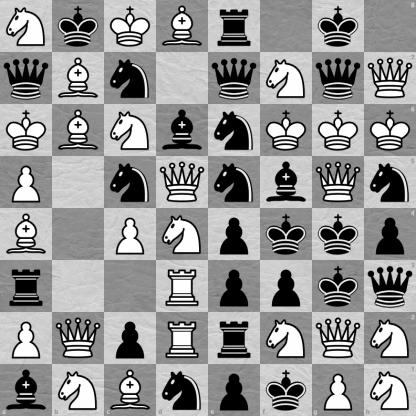B: (104, 364, 156, 416), (1, 209, 52, 260), (53, 53, 104, 104), (53, 105, 104, 156), (157, 1, 208, 52)
K: (364, 104, 416, 156), (1, 105, 52, 156), (105, 1, 156, 52), (261, 105, 312, 156), (313, 105, 364, 156)
N: (52, 364, 104, 416), (364, 312, 416, 364), (364, 364, 416, 416), (1, 1, 52, 52), (105, 105, 156, 156), (157, 209, 208, 260), (261, 53, 312, 104), (261, 313, 312, 364)
P: (312, 364, 364, 416), (1, 157, 52, 208), (1, 313, 52, 364), (105, 209, 156, 260)
Q: (364, 52, 416, 104), (53, 313, 104, 364), (157, 157, 208, 208), (313, 157, 364, 208), (313, 313, 364, 364)
R: (157, 261, 208, 312), (157, 313, 208, 364)
b: (0, 364, 52, 416), (157, 105, 208, 156), (261, 157, 312, 208)
board: (0, 0, 415, 415)
k: (260, 364, 312, 416), (53, 1, 104, 52), (261, 209, 312, 260), (313, 1, 364, 52), (313, 209, 364, 260), (313, 261, 364, 312)
n: (156, 364, 209, 416), (364, 156, 416, 209), (105, 53, 156, 104), (105, 157, 156, 208), (209, 105, 260, 156), (209, 157, 260, 208)
p: (209, 364, 260, 416), (364, 209, 416, 260), (105, 313, 156, 364), (209, 209, 260, 260), (209, 261, 260, 312), (261, 261, 312, 312)
q: (364, 260, 416, 312), (1, 53, 52, 104), (209, 53, 260, 104), (313, 53, 364, 104)
r: (1, 261, 52, 312), (209, 1, 260, 52), (209, 313, 260, 364)
